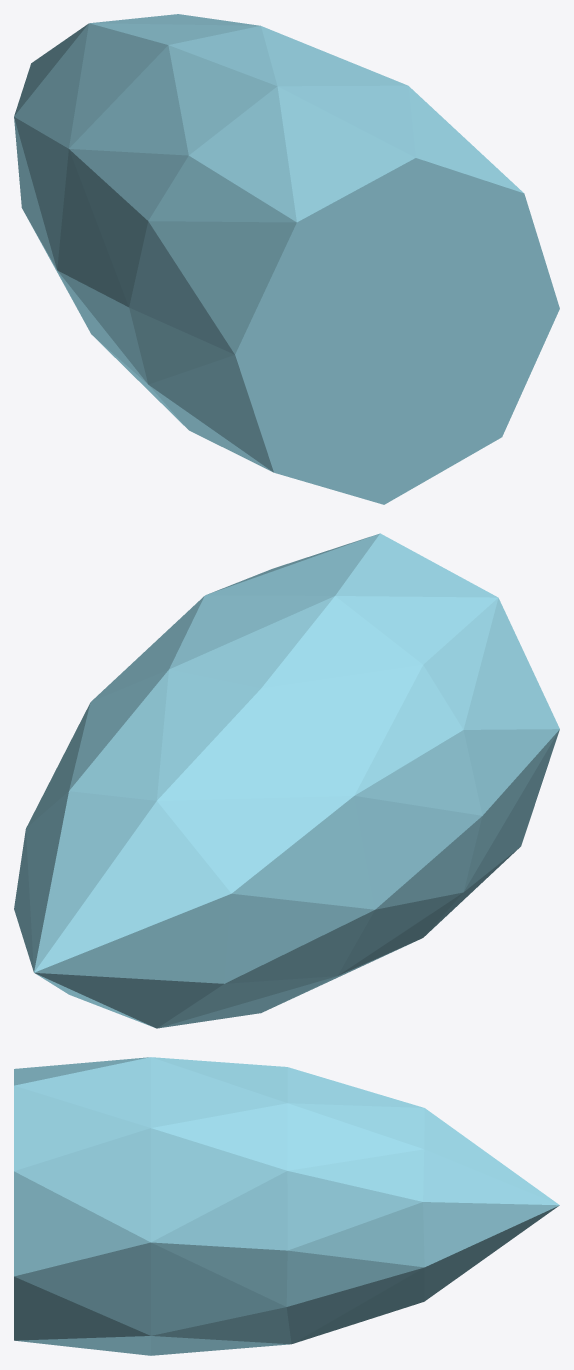
Rendered from mfire.obj.
The picture shows the model from 3 angles, top to bottom: view 1: azimuth 30°, elevation 25°; view 2: azimuth 150°, elevation 25°; view 3: azimuth 270°, elevation 25°; orthographic projection. The views are drawn at different scales.
Visible parts, largest first — view 1: Object.1; view 2: Object.1; view 3: Object.1.
Part boxes in pixels (bbox=[...]): Object.1: bbox=[14, 14, 559, 504]; Object.1: bbox=[14, 533, 559, 1028]; Object.1: bbox=[14, 1057, 559, 1355].
Bounding box in the file's own units: 11.07 × 11.04 × 19.94.
1 material, 1 textured.
